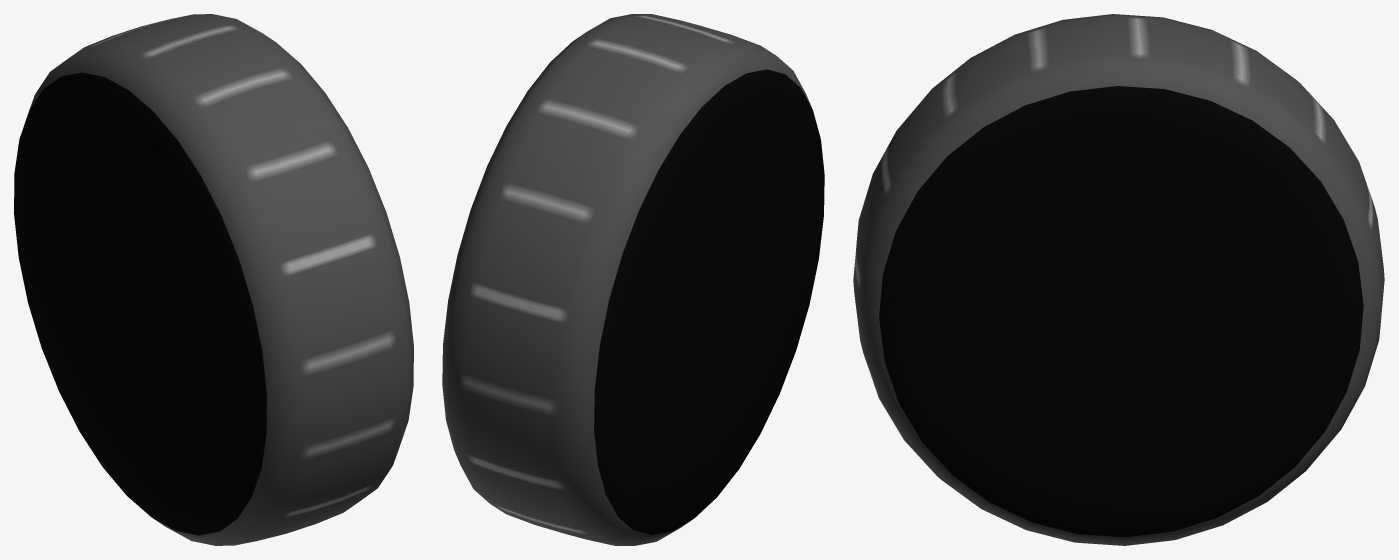
Rendered from scroll_wheel_left.obj.
3 renders of one model, left to right at view 1: azimuth 30°, elevation 25°; view 2: azimuth 150°, elevation 25°; view 3: azimuth 270°, elevation 25°, orthographic.
Visible parts, largest first — view 1: scrollwheel; view 2: scrollwheel; view 3: scrollwheel.
Boxes of the visible parts, x1,y1,x2,y2 form: scrollwheel: (14,14,413,545); scrollwheel: (442,14,824,545); scrollwheel: (853,14,1384,545).
Bounding box in the file's own units: 0.00885 × 0.0219 × 0.0219.
Materials: 1 (1 with a texture image).
